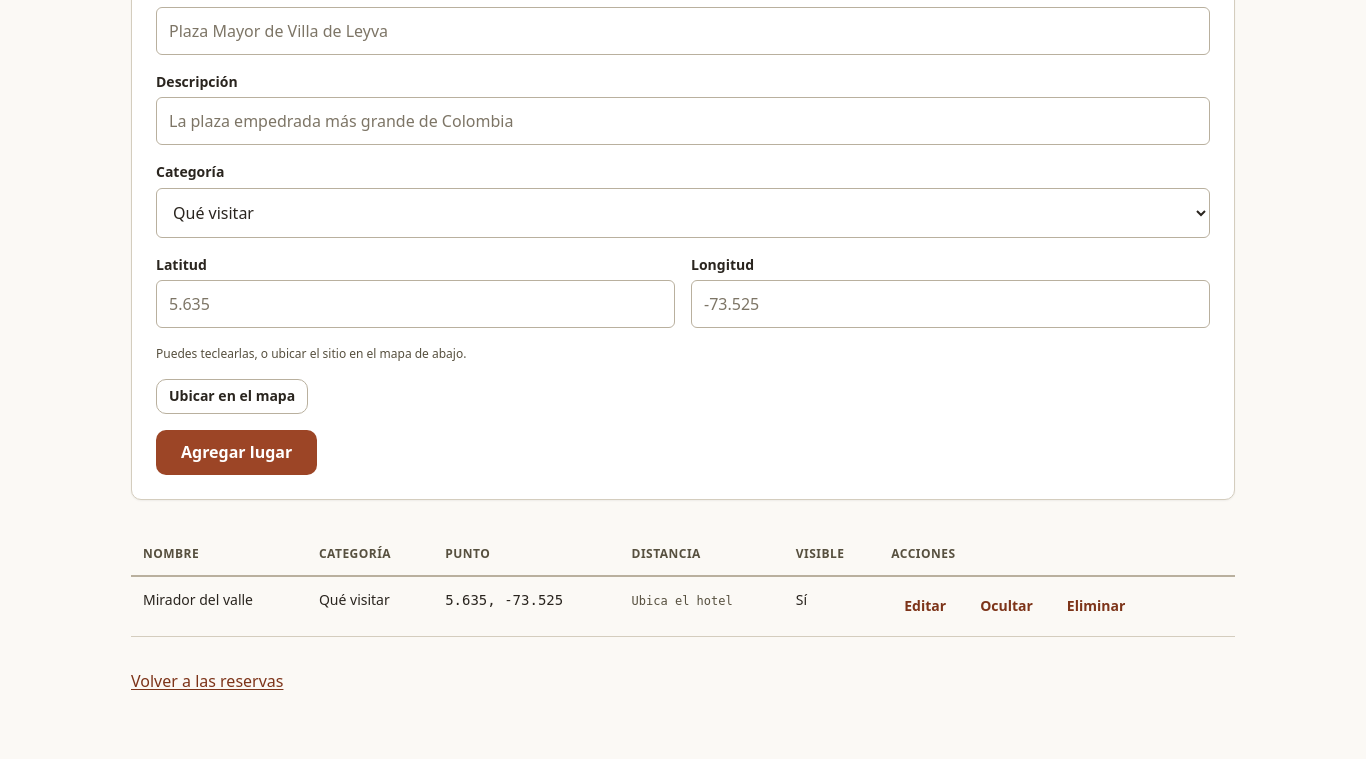
Scenario: edición de lugares del mapa › cancela la edición y conserva intacto el lugar
(page scrolled)
Expected: the row "Mirador del valle" is shown, [131,577,1235,637]
Click the button with aria-label "Editar Mirador del valle": point(925, 607) [891,589,959,624]
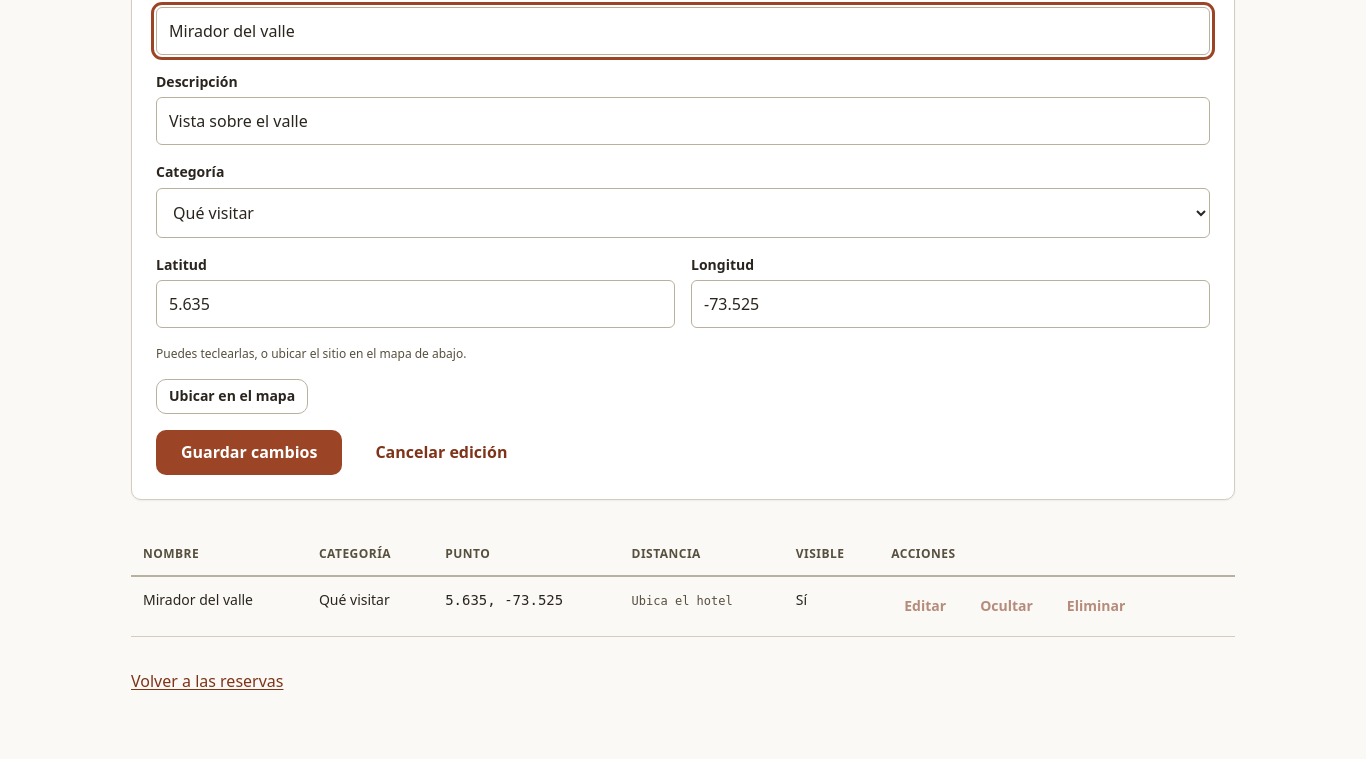
Click the button "Cancelar edición": point(441, 452) [350,430,532,475]
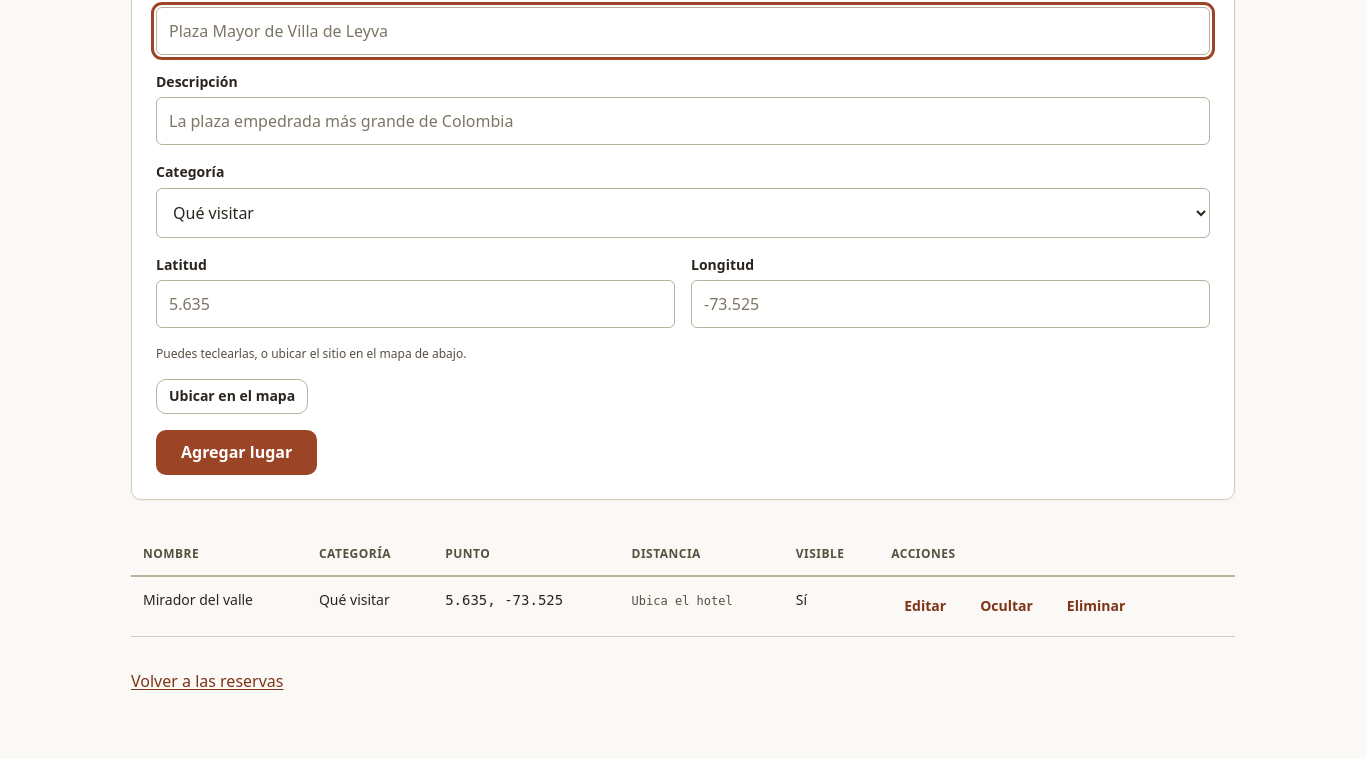
Expected: the row "Mirador del valle" is shown, [131,577,1235,637]
Expected: the field labelled "Nombre" is empty, [156,7,1210,55]
